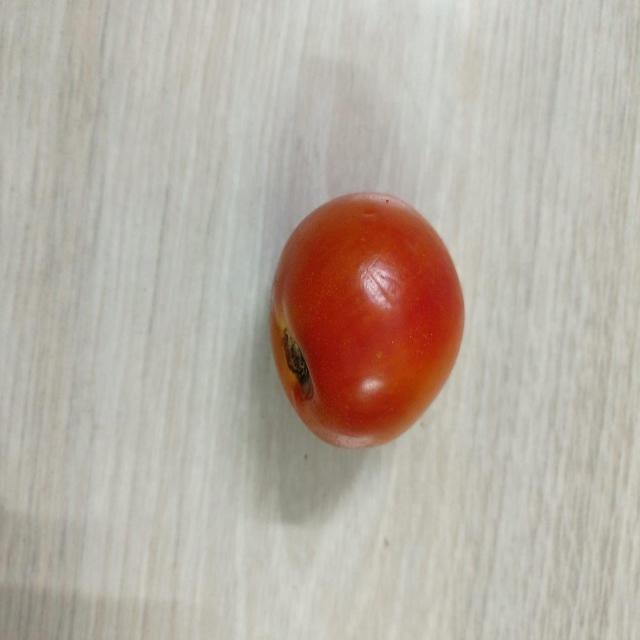Tomato: (268, 189, 468, 455)
